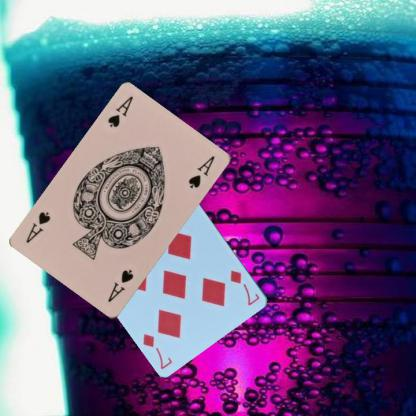7d: (228, 268, 261, 308)
As: (104, 267, 135, 304), (105, 93, 135, 128)
